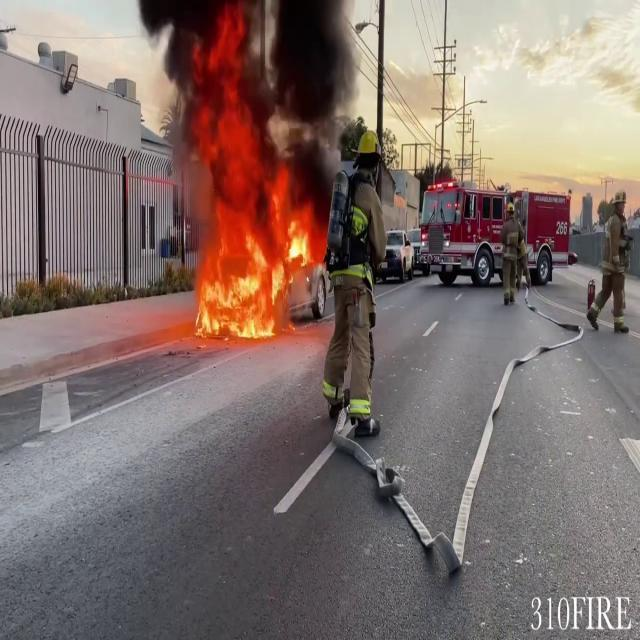Fire: (168, 77, 320, 340)
Smoke: (133, 0, 371, 176)
